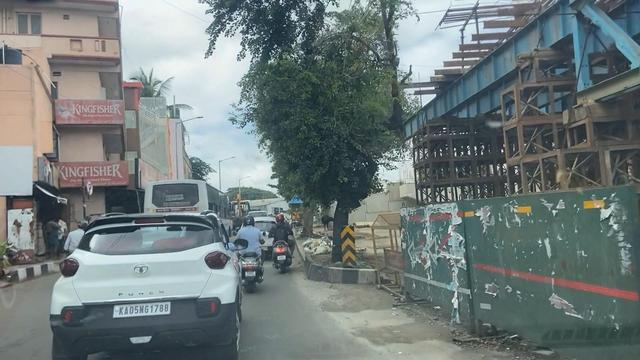LMV: (59, 228, 233, 353), (240, 215, 260, 283), (272, 213, 291, 274)
